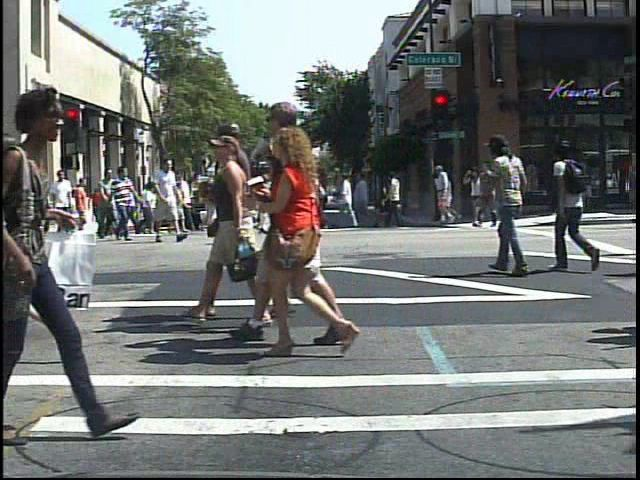person: (1, 76, 90, 451), (240, 91, 363, 345), (257, 118, 367, 357), (546, 131, 610, 279), (485, 126, 539, 281), (150, 158, 189, 246), (108, 161, 137, 243), (48, 166, 78, 245), (94, 164, 120, 242), (433, 160, 458, 225), (25, 183, 49, 244), (90, 183, 110, 221), (32, 119, 33, 371)
